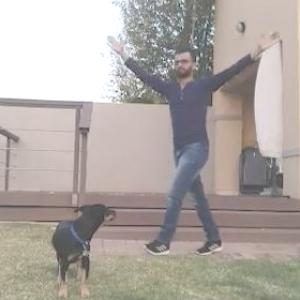takeoff: (94, 28, 274, 258)
